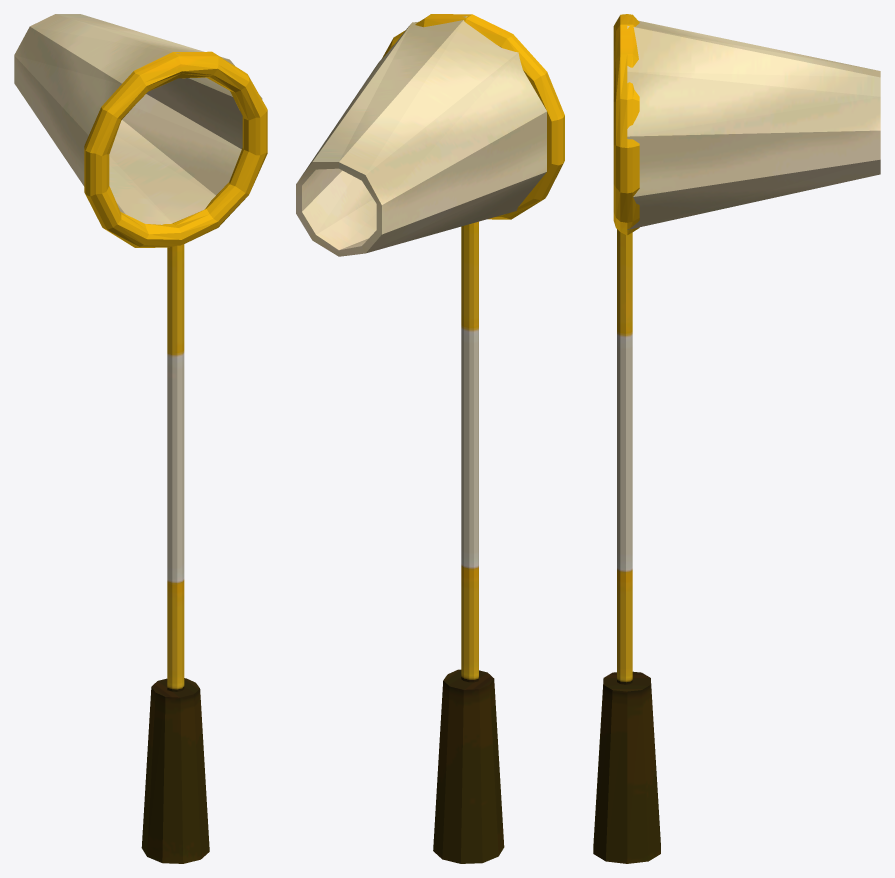
Rendered from Windthig.glb.
The picture shows the model from 3 angles, left to right: view 1: azimuth 30°, elevation 25°; view 2: azimuth 150°, elevation 25°; view 3: azimuth 270°, elevation 25°; orthographic projection. The views are drawn at different scales.
Parts seen in each view (by area): view 1: Windthig; view 2: Windthig; view 3: Windthig.
Part boxes in pixels (x1,y1,x2,y2): Windthig: (14, 14, 267, 863); Windthig: (296, 14, 564, 863); Windthig: (593, 14, 880, 863).
Bounding box in the file's own units: 60.91 × 257 × 81.08.
1 material, 1 textured.
